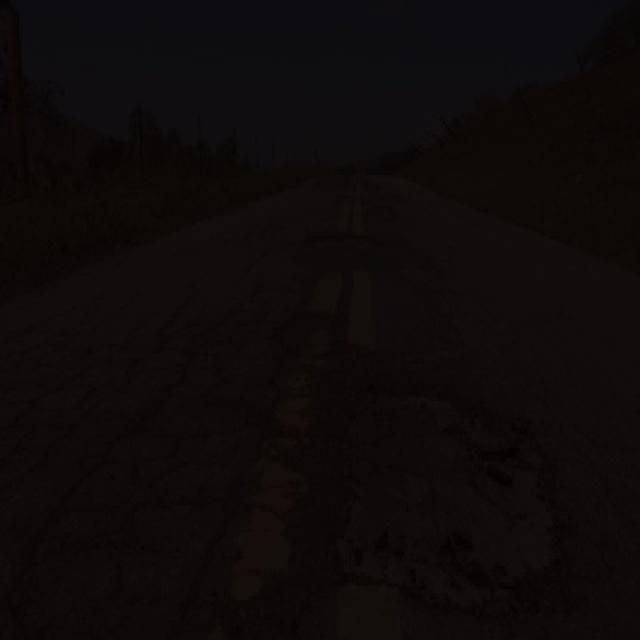Pothole: (323, 380, 564, 622), (300, 223, 388, 259)
